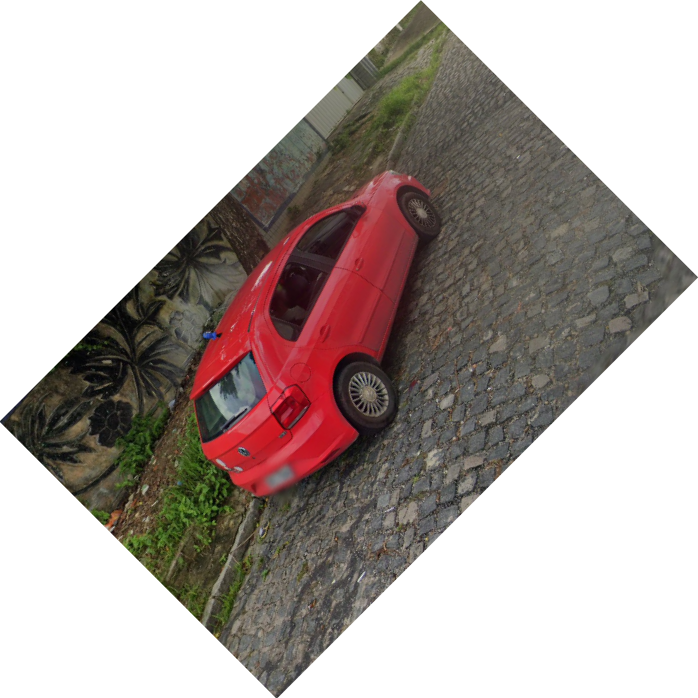car: (189, 169, 443, 500)
